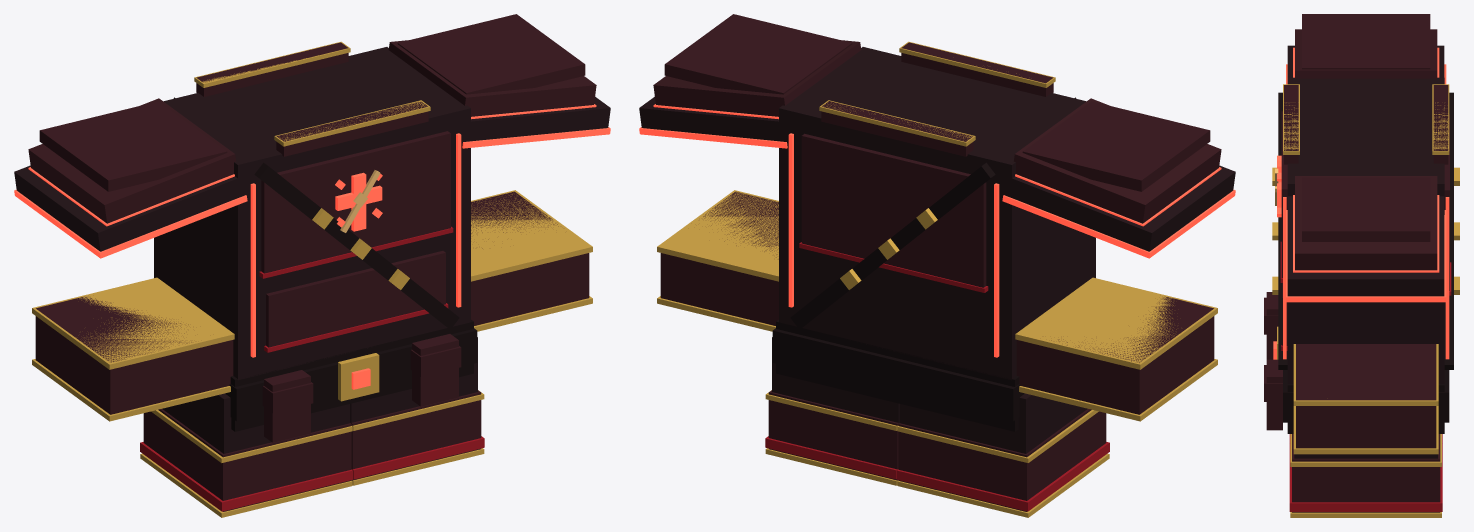
3 renders of one model, left to right at view 1: azimuth 30°, elevation 25°; view 2: azimuth 150°, elevation 25°; view 3: azimuth 270°, elevation 25°, orthographic. The views are drawn at different scales.
Parts seen in each view (by area): view 1: emberveil-coat; view 2: emberveil-coat; view 3: emberveil-coat.
Part boxes in pixels (x1,y1,x2,y2): emberveil-coat: (14, 14, 610, 517); emberveil-coat: (639, 14, 1235, 517); emberveil-coat: (1264, 14, 1459, 517).
Size of the model in its own units: 1.21 by 0.8212 by 0.4287.
